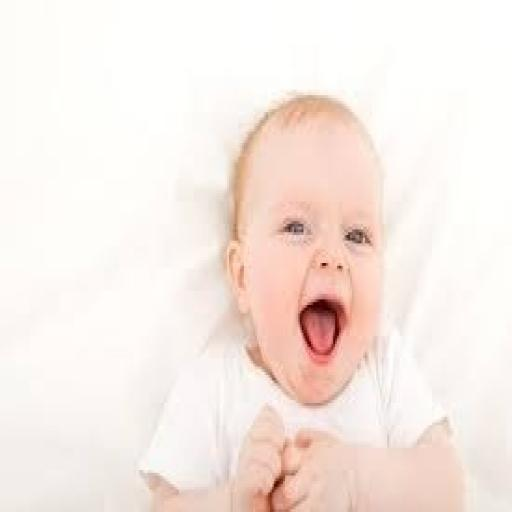laughing: (136, 81, 467, 509)
